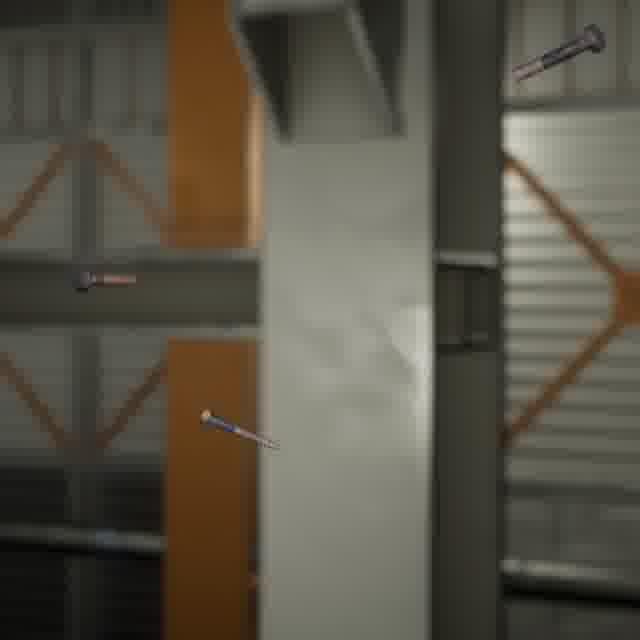bolt: (507, 19, 610, 86), (194, 402, 289, 456), (66, 260, 141, 296)
